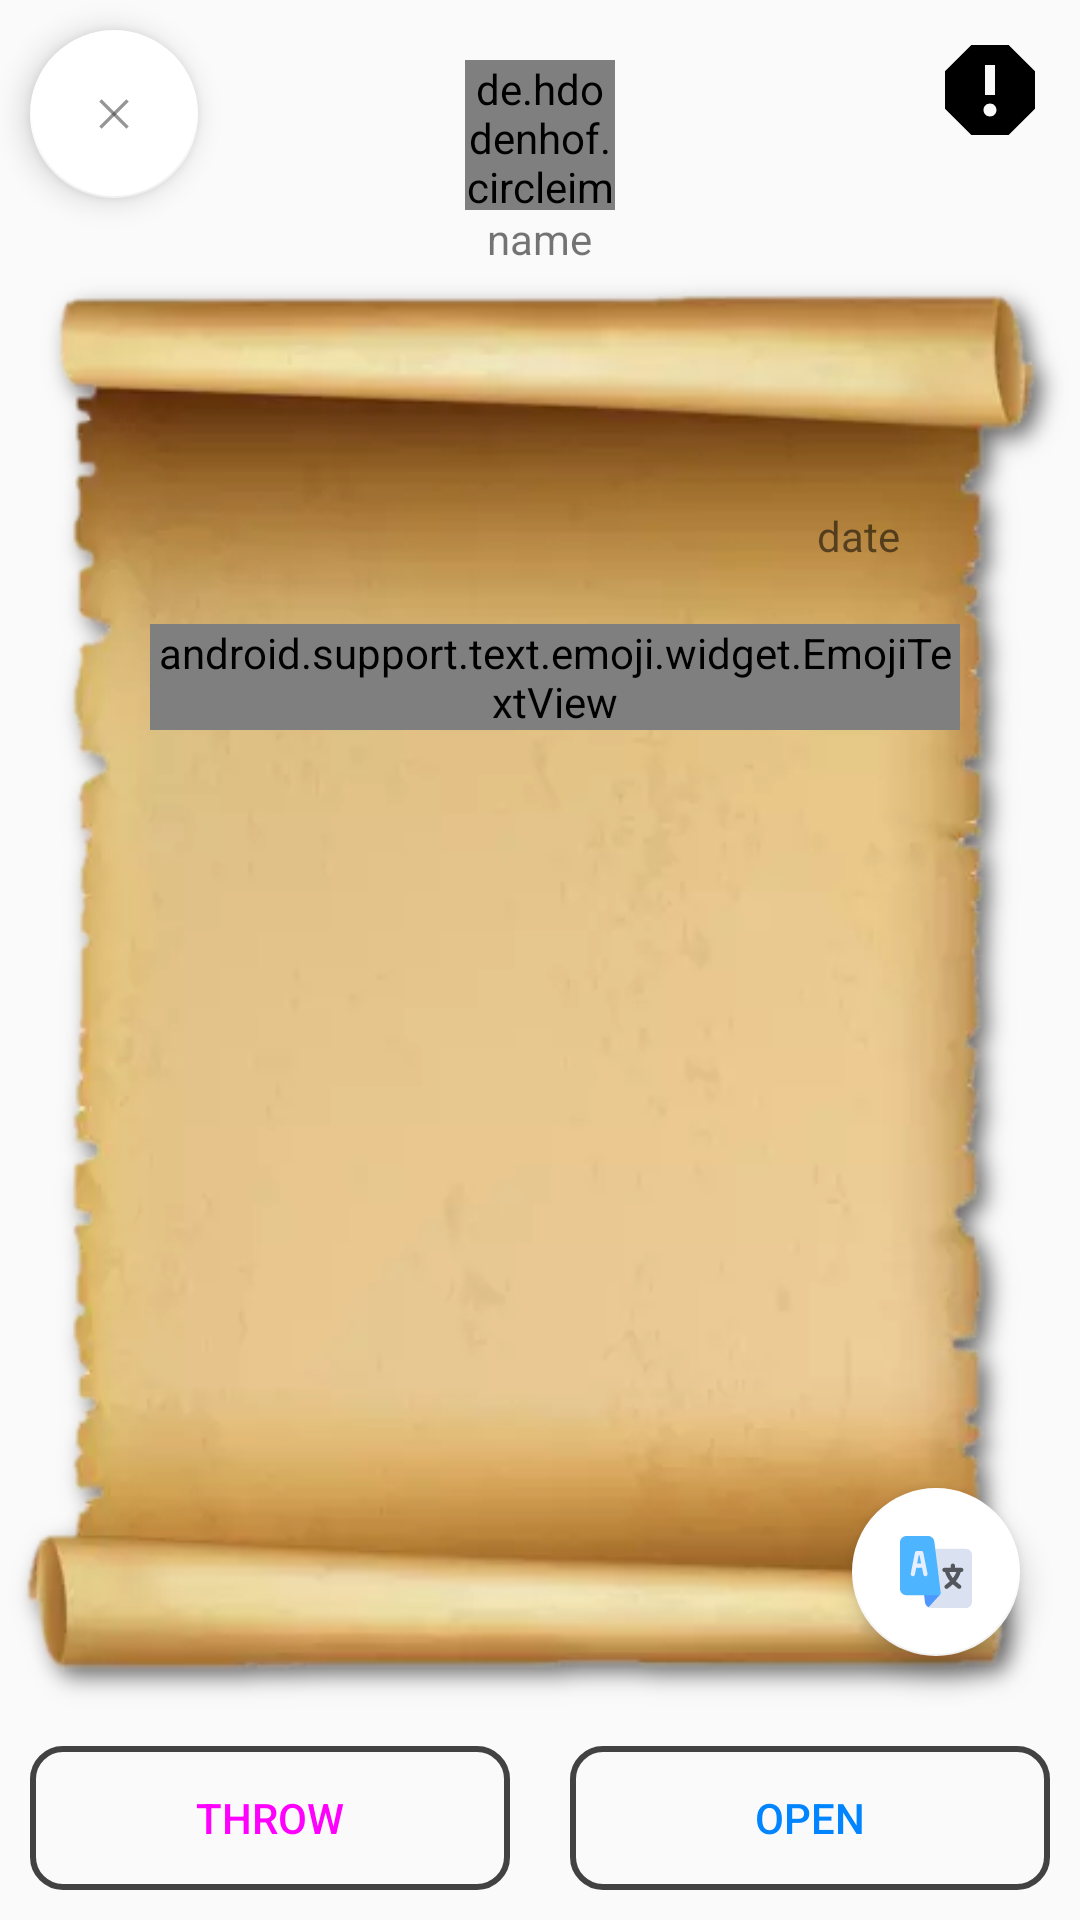

Point at icon controls on the screen. Image size 1080 × 1920, points as point (x, y).
delete: point (114, 114)
language: point (936, 1572)
report: point (990, 90)
